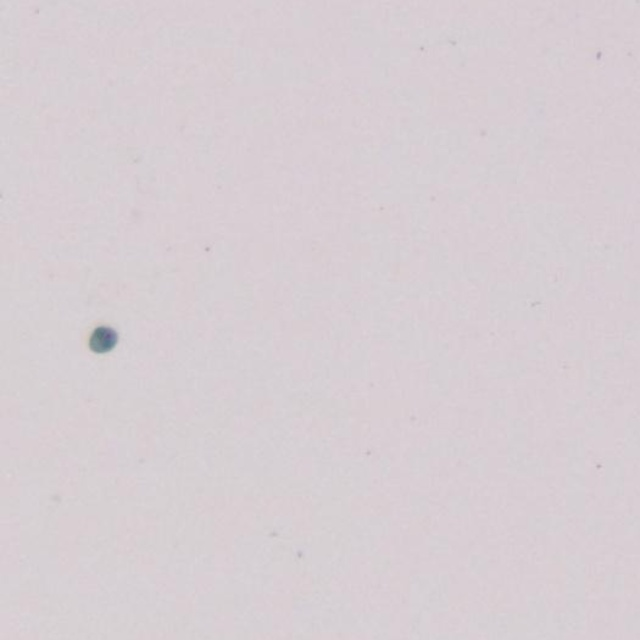non_viable: (89, 325, 117, 352)
